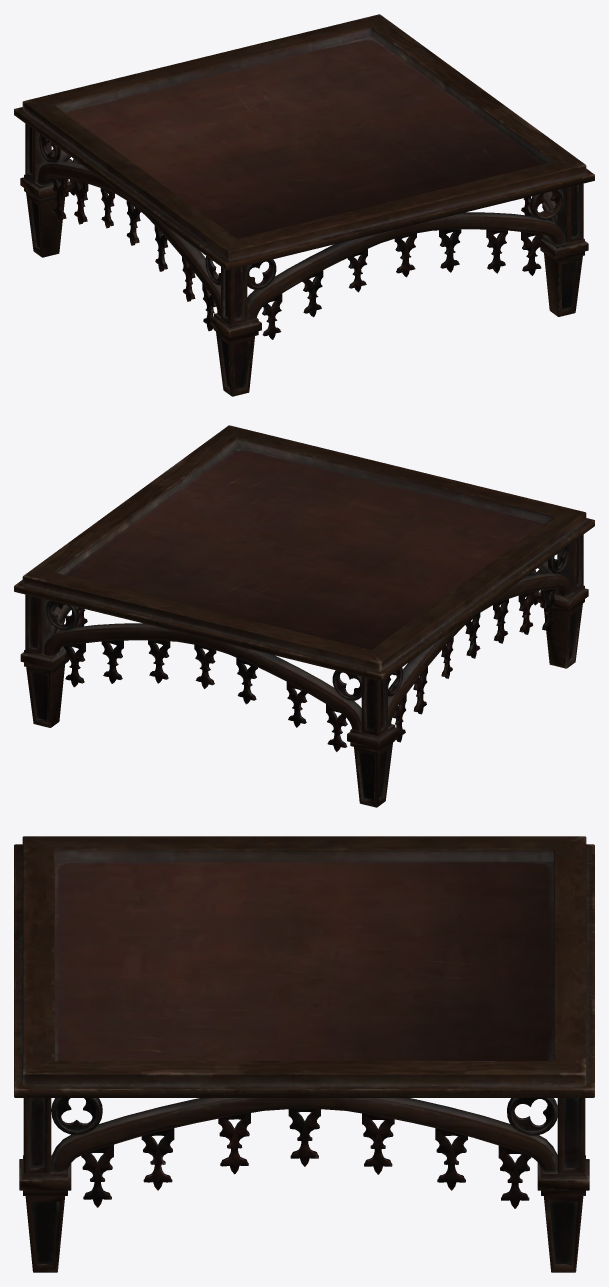
The model's file is gothic_coffee_table.glb.
3 renders of one model, top to bottom at view 1: azimuth 30°, elevation 25°; view 2: azimuth 150°, elevation 25°; view 3: azimuth 270°, elevation 25°, orthographic. The views are drawn at different scales.
Visible parts, largest first — view 1: gothic_coffee_table; view 2: gothic_coffee_table; view 3: gothic_coffee_table.
Boxes of the visible parts, <box> form: gothic_coffee_table: <box>14,14,594,396</box>; gothic_coffee_table: <box>14,425,594,807</box>; gothic_coffee_table: <box>14,836,594,1272</box>.
Size of the model in its own units: 1.44 by 0.5588 by 1.44.
Materials: 1 (1 with a texture image).
